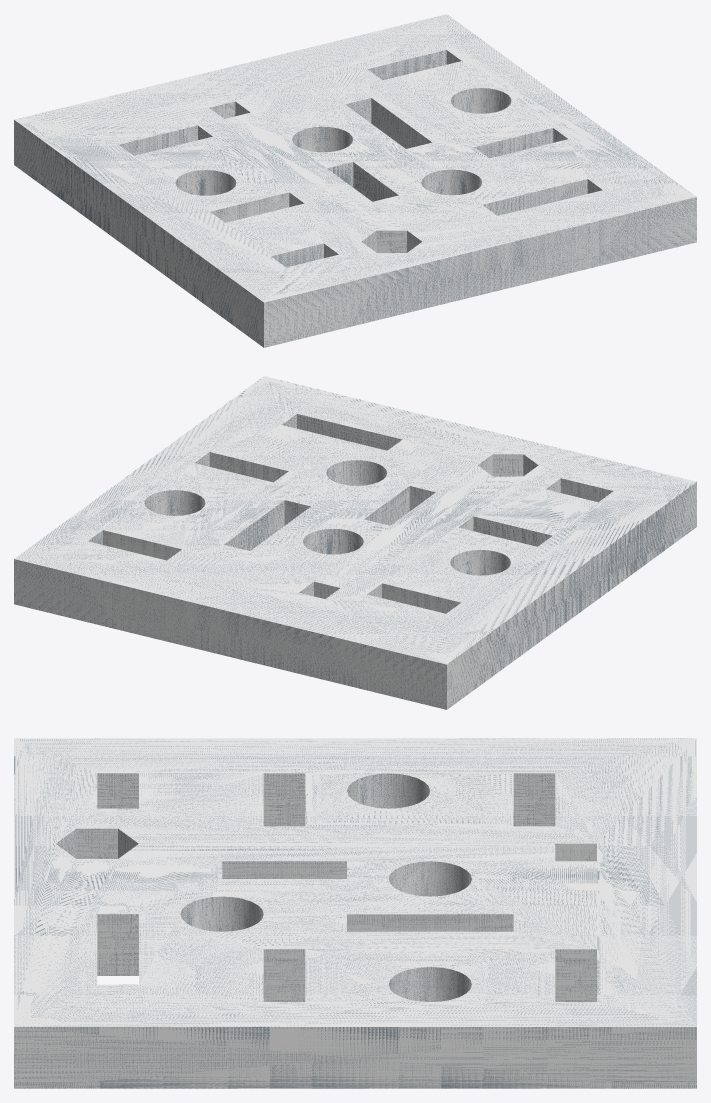
3 renders of one model, top to bottom at view 1: azimuth 30°, elevation 25°; view 2: azimuth 150°, elevation 25°; view 3: azimuth 270°, elevation 25°, orthographic. The views are drawn at different scales.
Parts seen in each view (by area): view 1: Model; view 2: Model; view 3: Model.
Boxes of the visible parts, left/top/right/bottom form: Model: left=14, top=14, right=696, bottom=347; Model: left=14, top=376, right=696, bottom=709; Model: left=14, top=738, right=696, bottom=1088.
Size of the model in its own units: 5 by 0.5 by 5.
